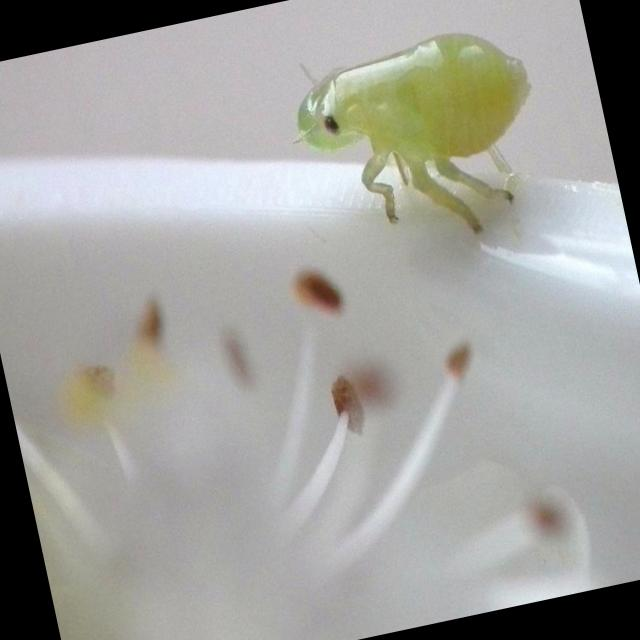Aphids: (244, 0, 566, 263)
